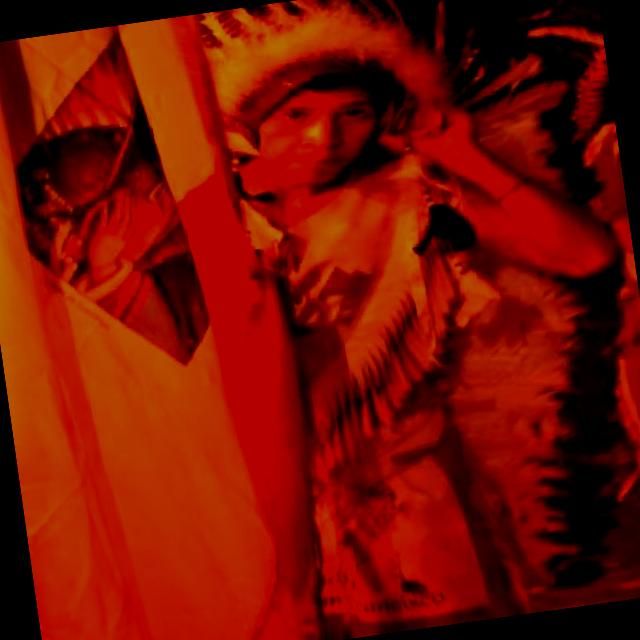Person: (183, 4, 594, 640)
